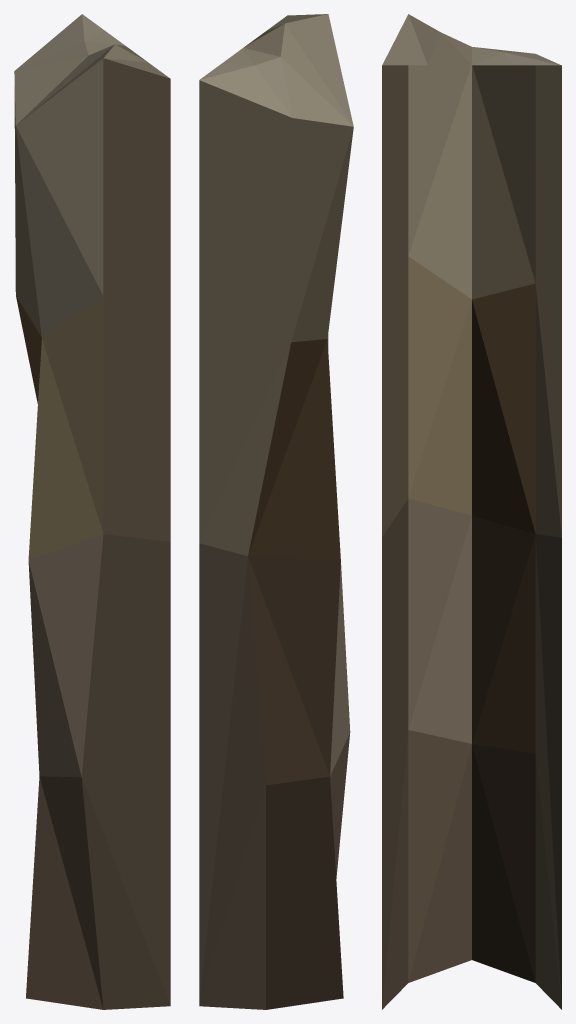
Rendered from Wall_CutLog-End.fbx.
The picture shows the model from 3 angles, left to right: view 1: azimuth 30°, elevation 25°; view 2: azimuth 150°, elevation 25°; view 3: azimuth 270°, elevation 25°; orthographic projection.
Parts seen in each view (by area): view 1: Wall_CutLog-End; view 2: Wall_CutLog-End; view 3: Wall_CutLog-End.
Part boxes in pixels (box(x1,y1,x2,y2)): Wall_CutLog-End: box(14, 14, 170, 1009); Wall_CutLog-End: box(199, 14, 353, 1009); Wall_CutLog-End: box(382, 14, 561, 1009).
Size of the model in its own units: 24.77 by 204 by 34.24.
